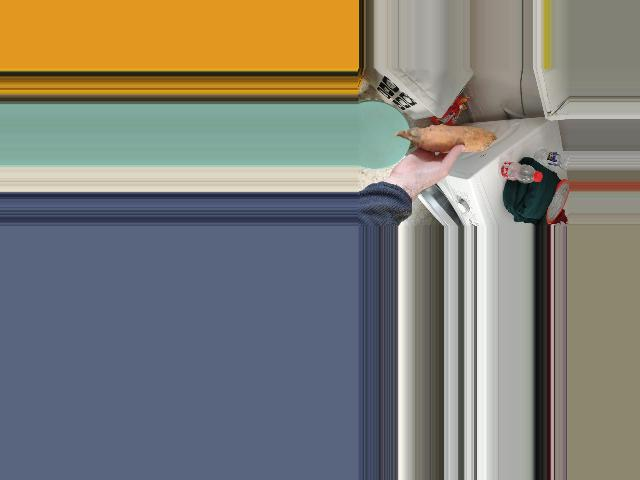sweet_potato: (404, 125, 484, 156)
